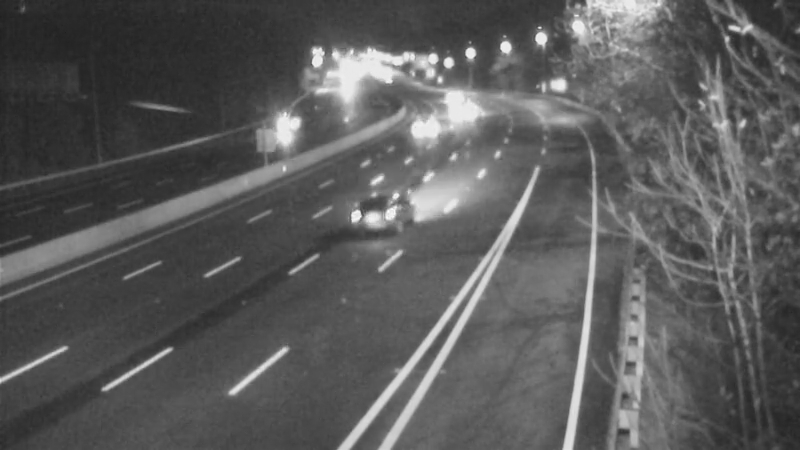vehicle: (330, 180, 410, 260), (427, 70, 477, 120), (437, 88, 487, 138), (400, 106, 450, 156), (265, 100, 315, 150)
